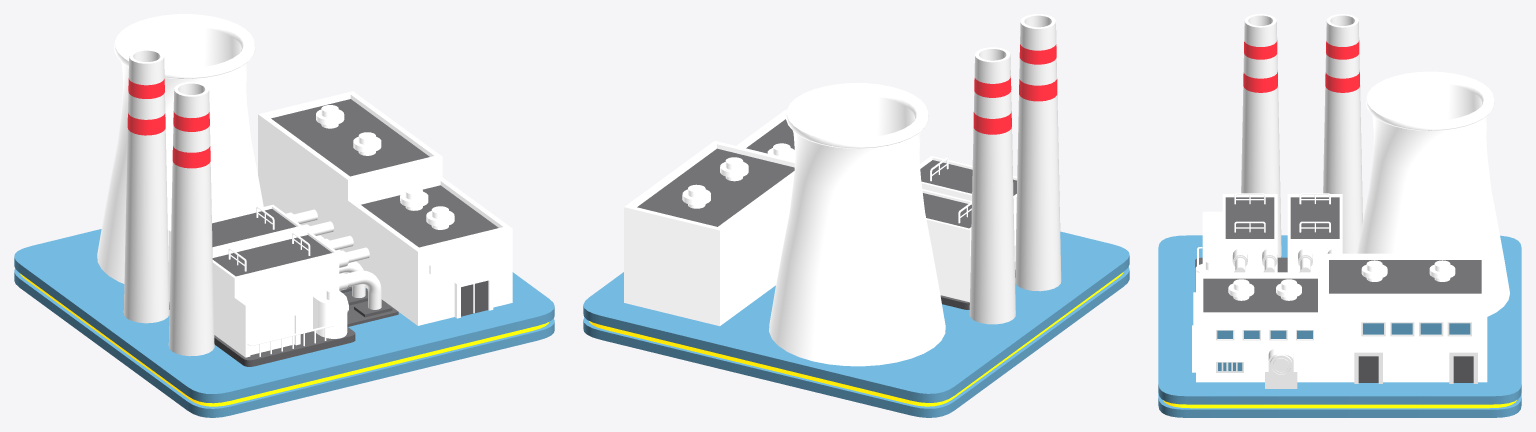
Rendered from 热源模型2.glb.
3 renders of one model, left to right at view 1: azimuth 30°, elevation 25°; view 2: azimuth 150°, elevation 25°; view 3: azimuth 270°, elevation 25°, orthographic. The views are drawn at different scales.
Visible parts, largest first — view 1: SM_ReYuan; view 2: SM_ReYuan; view 3: SM_ReYuan.
Part boxes in pixels (x1=…): SM_ReYuan: x1=14, y1=14, x2=554, y2=417; SM_ReYuan: x1=583, y1=14, x2=1129, y2=417; SM_ReYuan: x1=1158, y1=14, x2=1521, y2=417.
Size of the model in its own units: 0.1845 by 0.137 by 0.1761.
